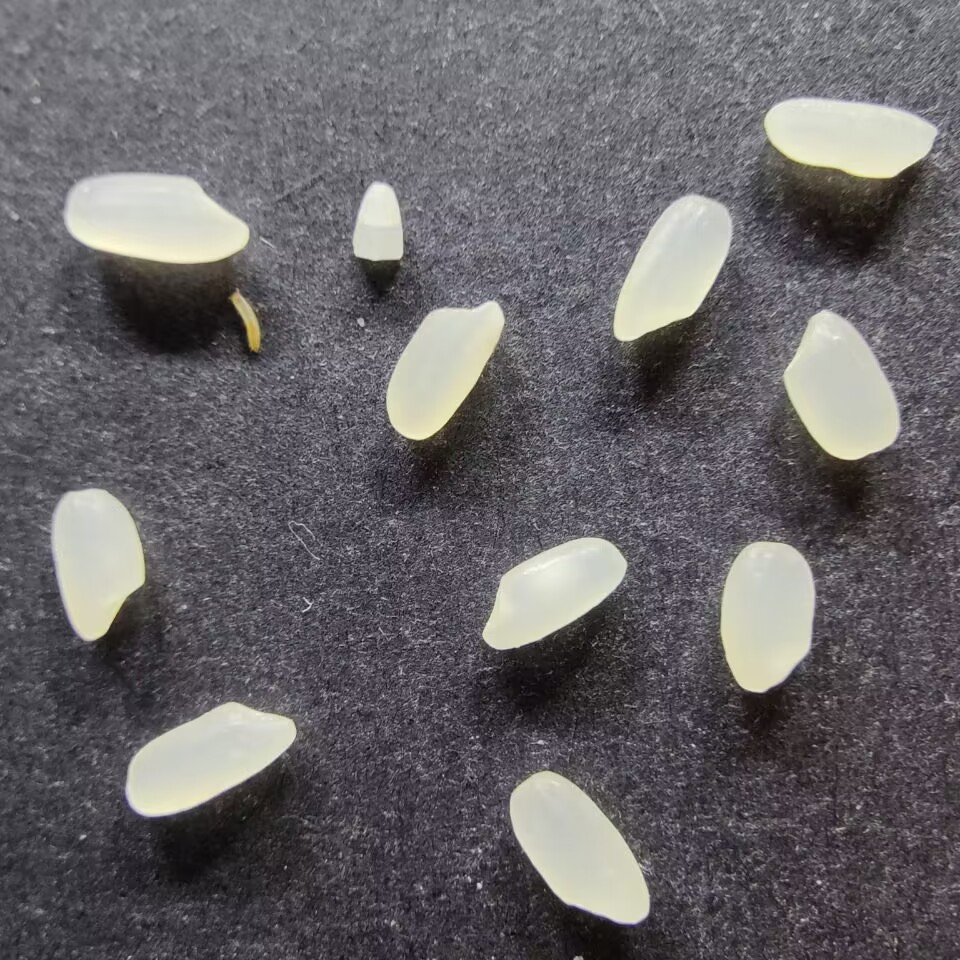broken: (344, 181, 407, 264)
others: (226, 284, 265, 354)
rice: (507, 769, 651, 927), (122, 698, 298, 818), (610, 192, 734, 343), (779, 309, 902, 460), (60, 172, 254, 264), (383, 297, 505, 440), (479, 534, 627, 651), (48, 485, 147, 644), (718, 540, 815, 696), (761, 96, 940, 180)
